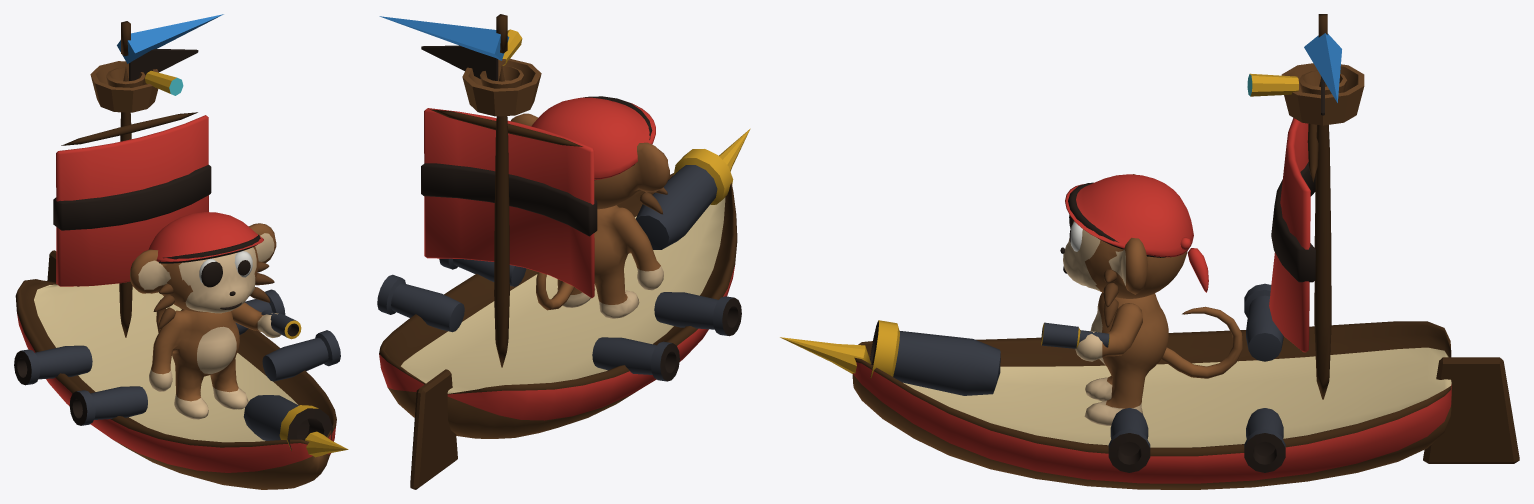
The picture shows the model from 3 angles, left to right: view 1: azimuth 30°, elevation 25°; view 2: azimuth 150°, elevation 25°; view 3: azimuth 270°, elevation 25°; orthographic projection. The views are drawn at different scales.
Visible parts, largest first — view 1: bucaneiro_0_base, bucaneiro_3_cabeca, bucaneiro_1_corpo, bucaneiro_4_torreta, bucaneiro_5_braco; view 2: bucaneiro_0_base, bucaneiro_3_cabeca, bucaneiro_1_corpo, bucaneiro_4_torreta, bucaneiro_2_cauda; view 3: bucaneiro_0_base, bucaneiro_3_cabeca, bucaneiro_4_torreta, bucaneiro_1_corpo, bucaneiro_5_braco, bucaneiro_2_cauda.
Boxes of the visible parts, <box> form: bucaneiro_0_base: <box>14,14,348,489</box>; bucaneiro_3_cabeca: <box>130,212,276,329</box>; bucaneiro_1_corpo: <box>149,309,248,419</box>; bucaneiro_4_torreta: <box>243,395,332,450</box>; bucaneiro_5_braco: <box>231,302,301,339</box>; bucaneiro_0_base: <box>377,14,750,489</box>; bucaneiro_3_cabeca: <box>510,96,669,214</box>; bucaneiro_1_corpo: <box>557,205,663,318</box>; bucaneiro_4_torreta: <box>636,149,733,249</box>; bucaneiro_2_cauda: <box>536,272,574,310</box>; bucaneiro_0_base: <box>780,14,1519,489</box>; bucaneiro_3_cabeca: <box>1060,174,1208,327</box>; bucaneiro_4_torreta: <box>870,320,1000,395</box>; bucaneiro_1_corpo: <box>1084,292,1168,425</box>; bucaneiro_5_braco: <box>1041,303,1142,361</box>; bucaneiro_2_cauda: <box>1161,306,1242,378</box>.
Size of the model in its own units: 1.12 by 1.54 by 2.3.
